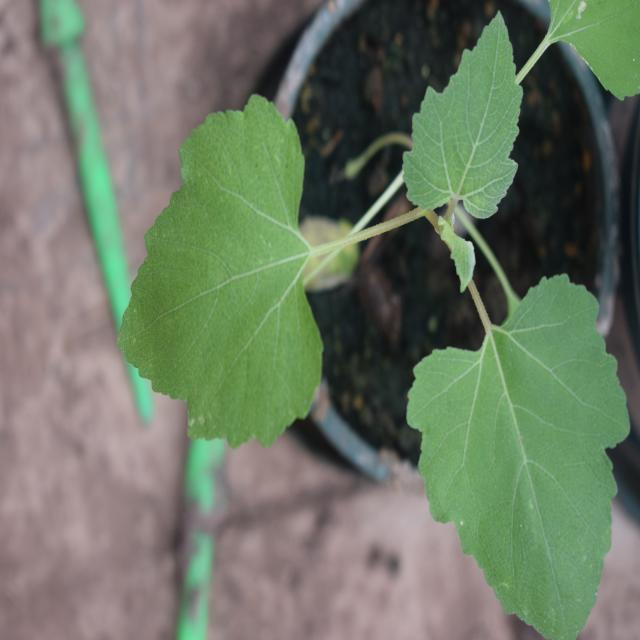cocklebur: (144, 33, 612, 622)
